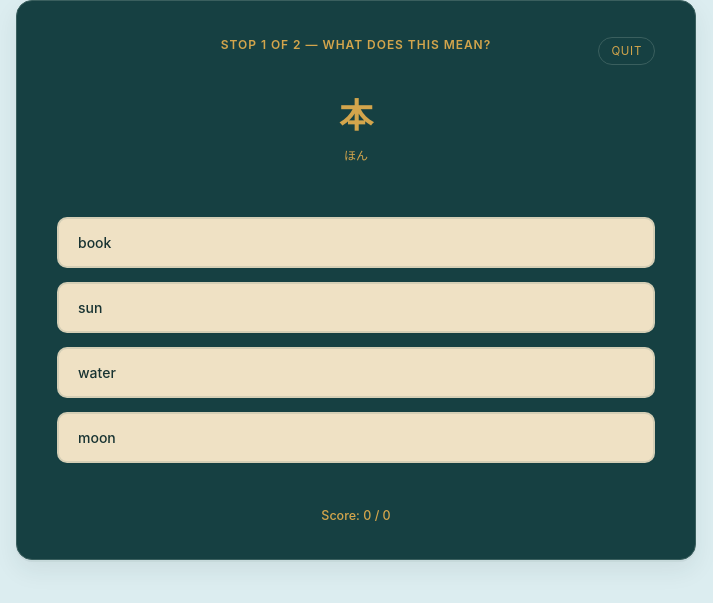
QuizRunner › records on reaching the summary, without Finish being clicked
Click the button "book" at (95, 242), box x1=57 y1=216 x2=655 y2=268
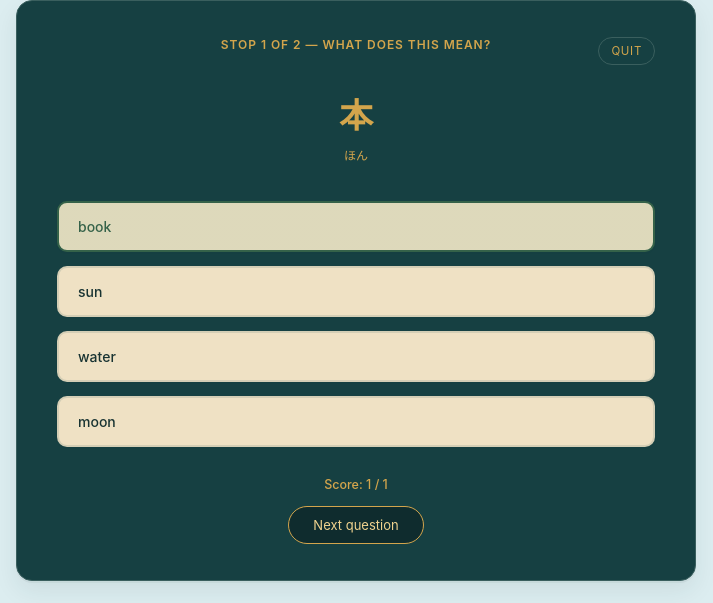
Click the button "Next question" at (356, 525), box x1=288 y1=506 x2=424 y2=544
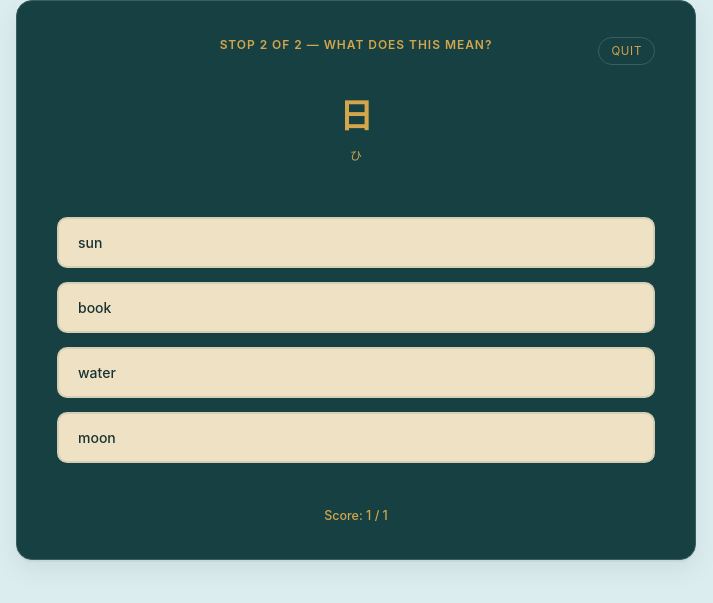
Click the button "sun" at (90, 242), box x1=57 y1=216 x2=655 y2=268
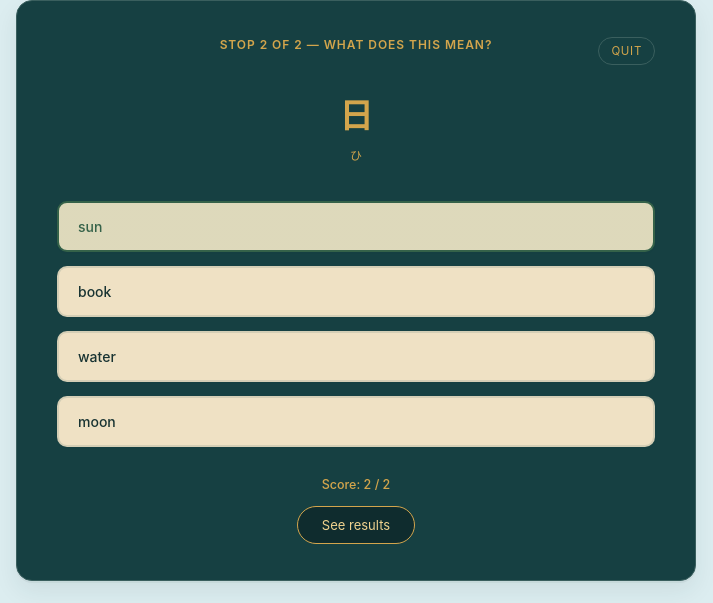
Click the button "See results" at (356, 525), box x1=297 y1=506 x2=415 y2=544
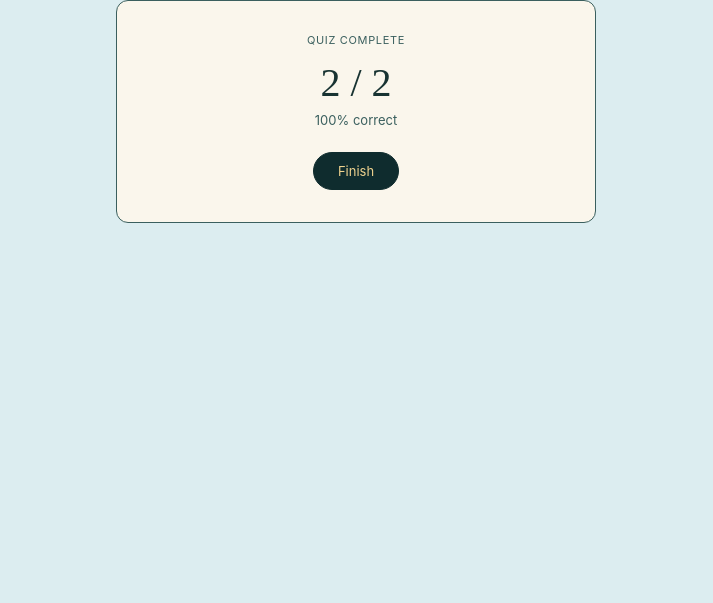
Expected: the text "Quiz complete" is shown, x1=307 y1=33 x2=405 y2=47
